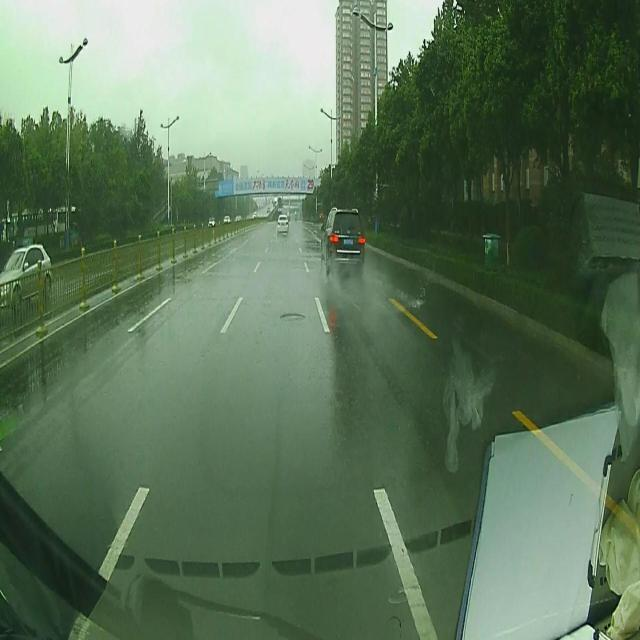car: (1, 242, 52, 310), (320, 208, 366, 276), (274, 213, 290, 232), (222, 215, 232, 226), (208, 217, 215, 228)
